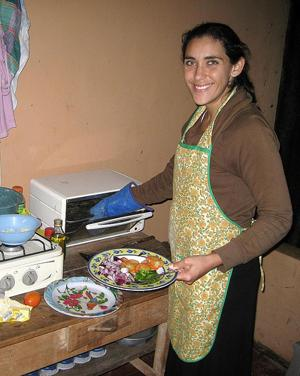person: (90, 25, 293, 376)
